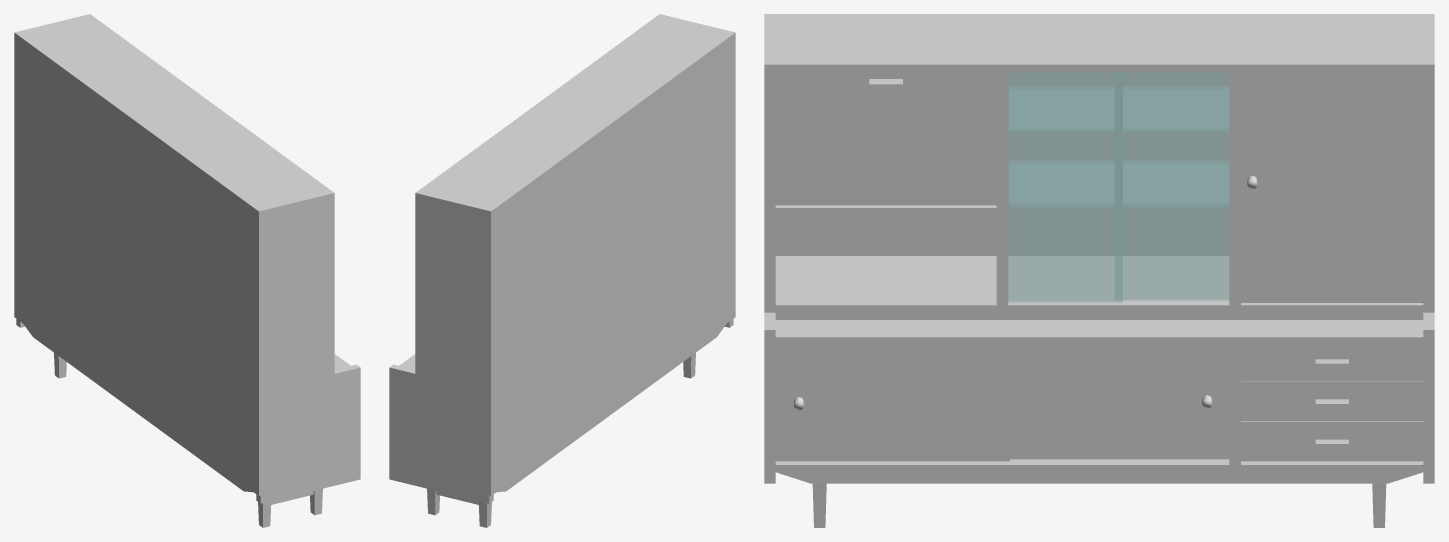
3 views of the same model, side by side, from view 1: azimuth 30°, elevation 25°; view 2: azimuth 150°, elevation 25°; view 3: azimuth 270°, elevation 25° (orthographic). The views are drawn at different scales.
Parts seen in each view (by area): view 1: Cube.032; view 2: Cube.032; view 3: Cube.032.
Boxes of the visible parts, bbox=[...] form: Cube.032: bbox=[14, 14, 360, 527]; Cube.032: bbox=[389, 14, 735, 527]; Cube.032: bbox=[764, 14, 1434, 527].
Size of the model in its own units: 193 by 602 by 795.
